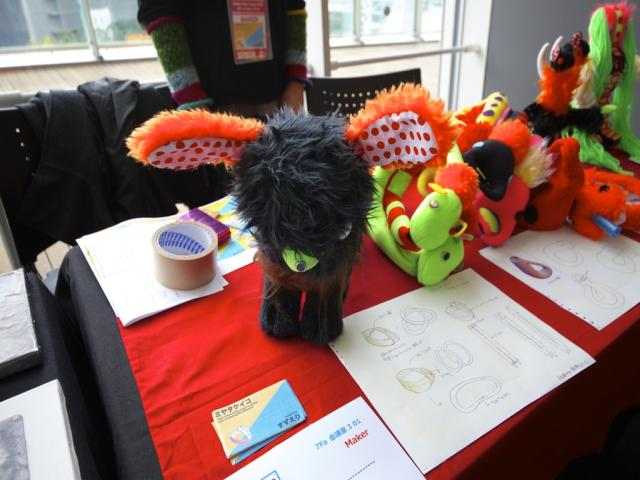Dog: (226, 104, 378, 344)
